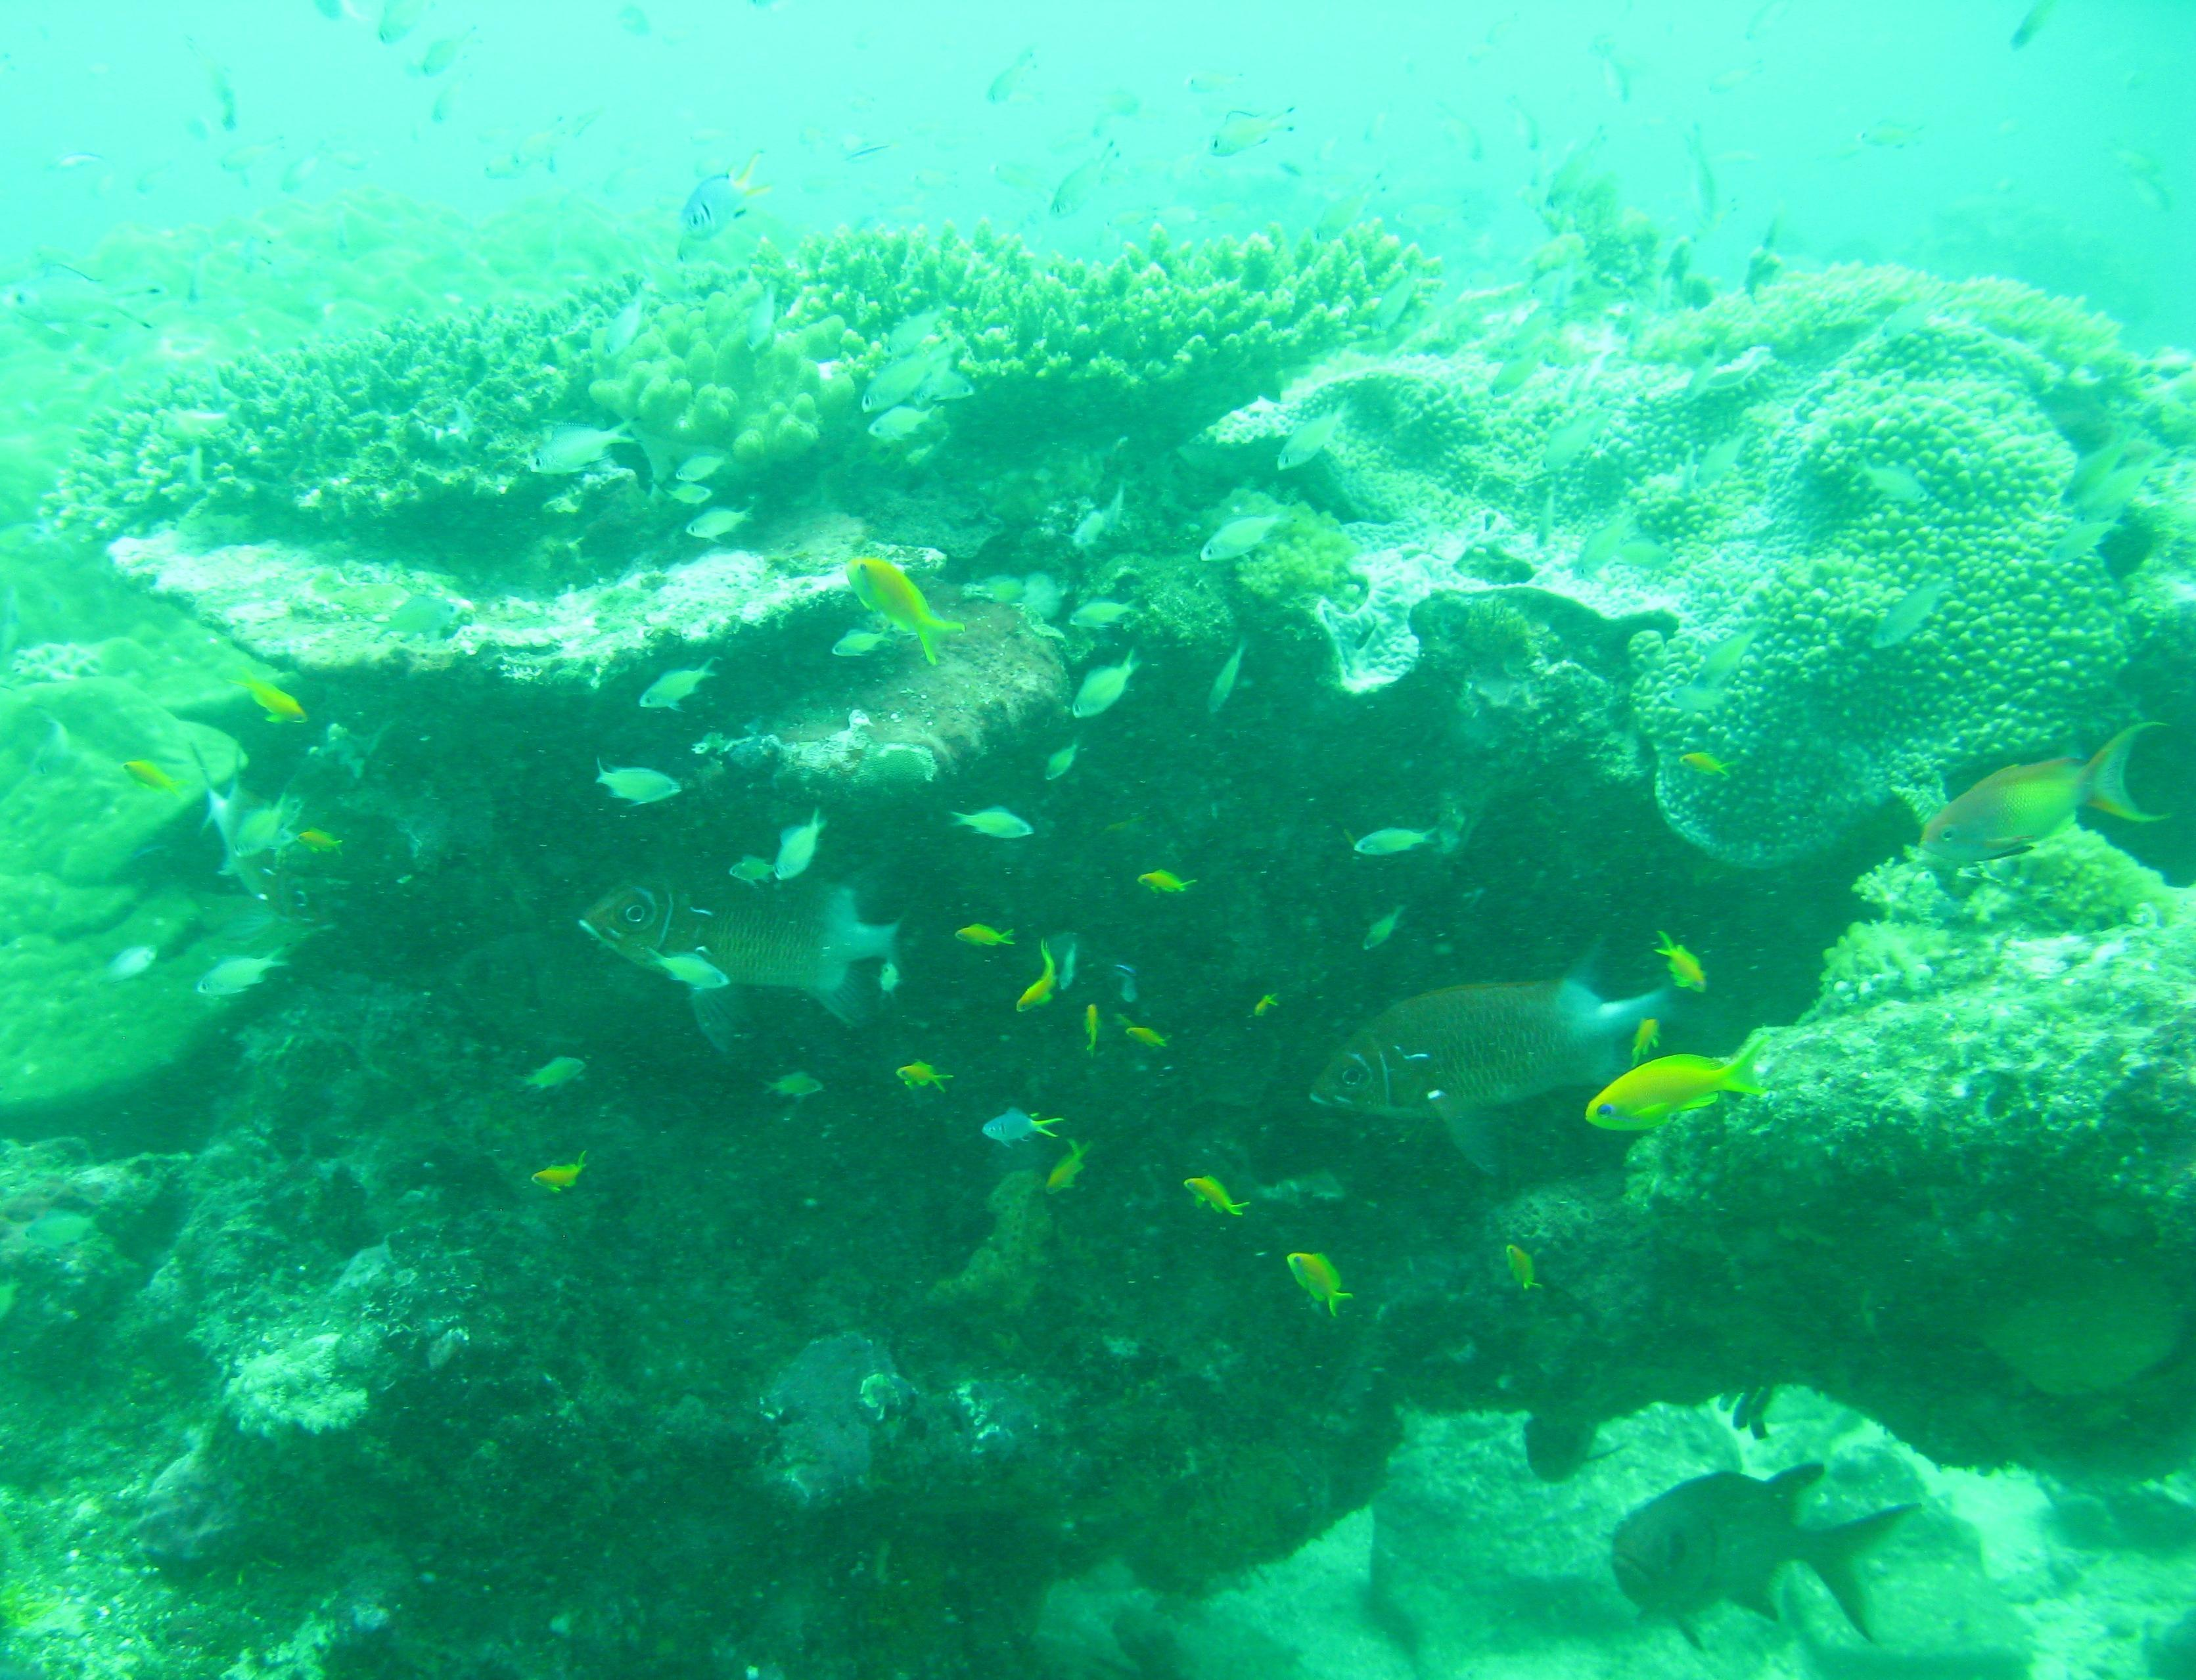Pseadanthias squamipinnis: (1569, 1054, 1859, 1174), (803, 526, 985, 674), (1252, 1232, 1384, 1350), (505, 1126, 614, 1214), (1170, 1152, 1262, 1248), (1483, 1225, 1568, 1324), (226, 662, 325, 743), (1640, 923, 1726, 1013), (1026, 1121, 1102, 1219), (95, 746, 196, 815), (1008, 937, 1066, 1032), (1114, 858, 1220, 909), (939, 907, 1031, 964), (1672, 745, 1758, 796), (893, 1046, 964, 1108), (1107, 1015, 1184, 1064), (286, 824, 372, 859), (1236, 986, 1290, 1029)
